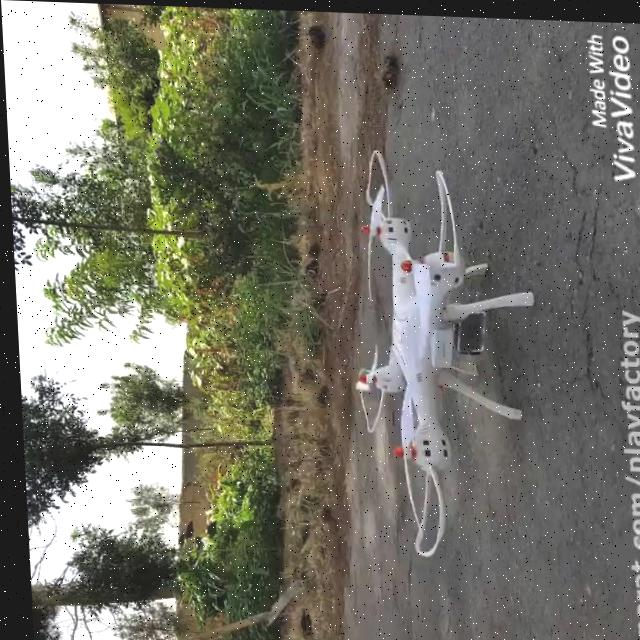drone: (336, 138, 542, 563)
